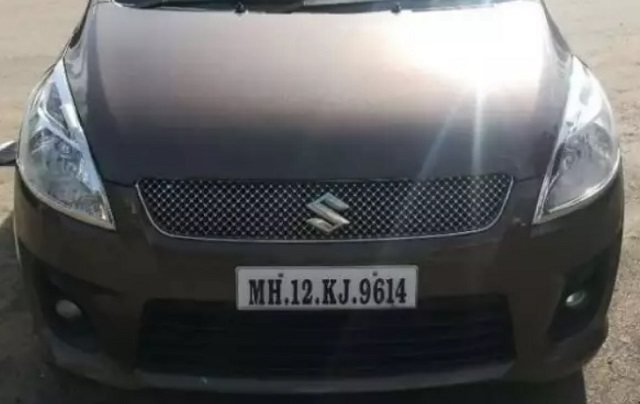licenseplate: (234, 263, 422, 311)
